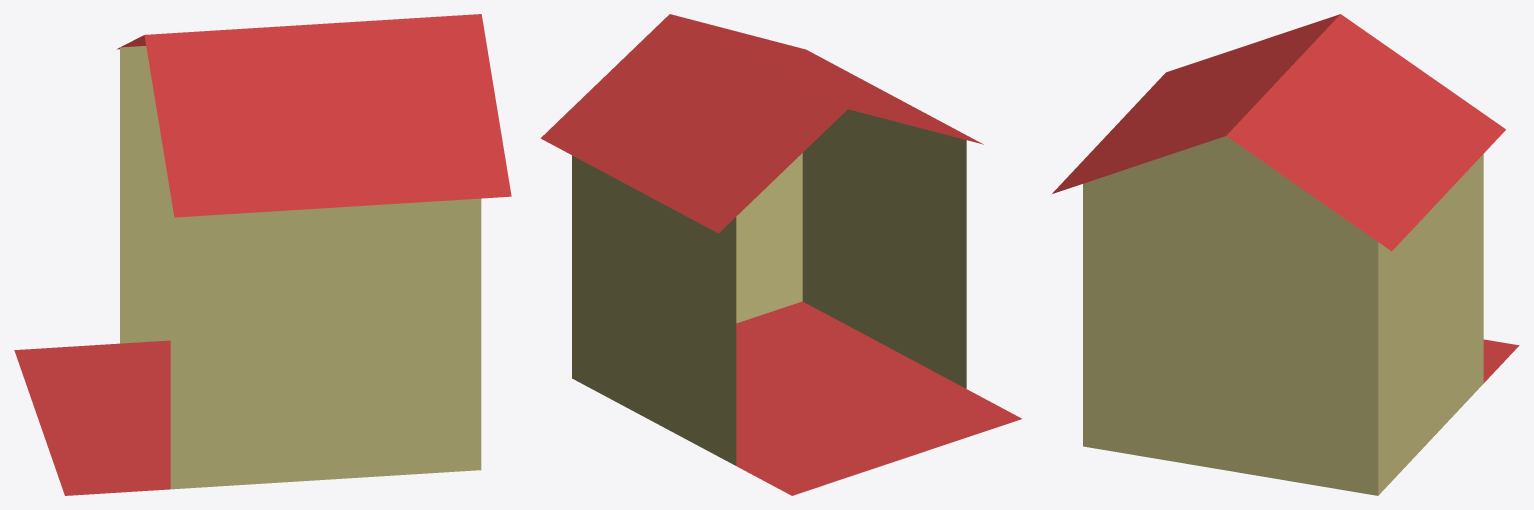
The picture shows the model from 3 angles, left to right: view 1: azimuth 30°, elevation 25°; view 2: azimuth 150°, elevation 25°; view 3: azimuth 270°, elevation 25°; orthographic projection. The views are drawn at different scales.
Size of the model in its own units: 10.39 by 9.63 by 7.84.
